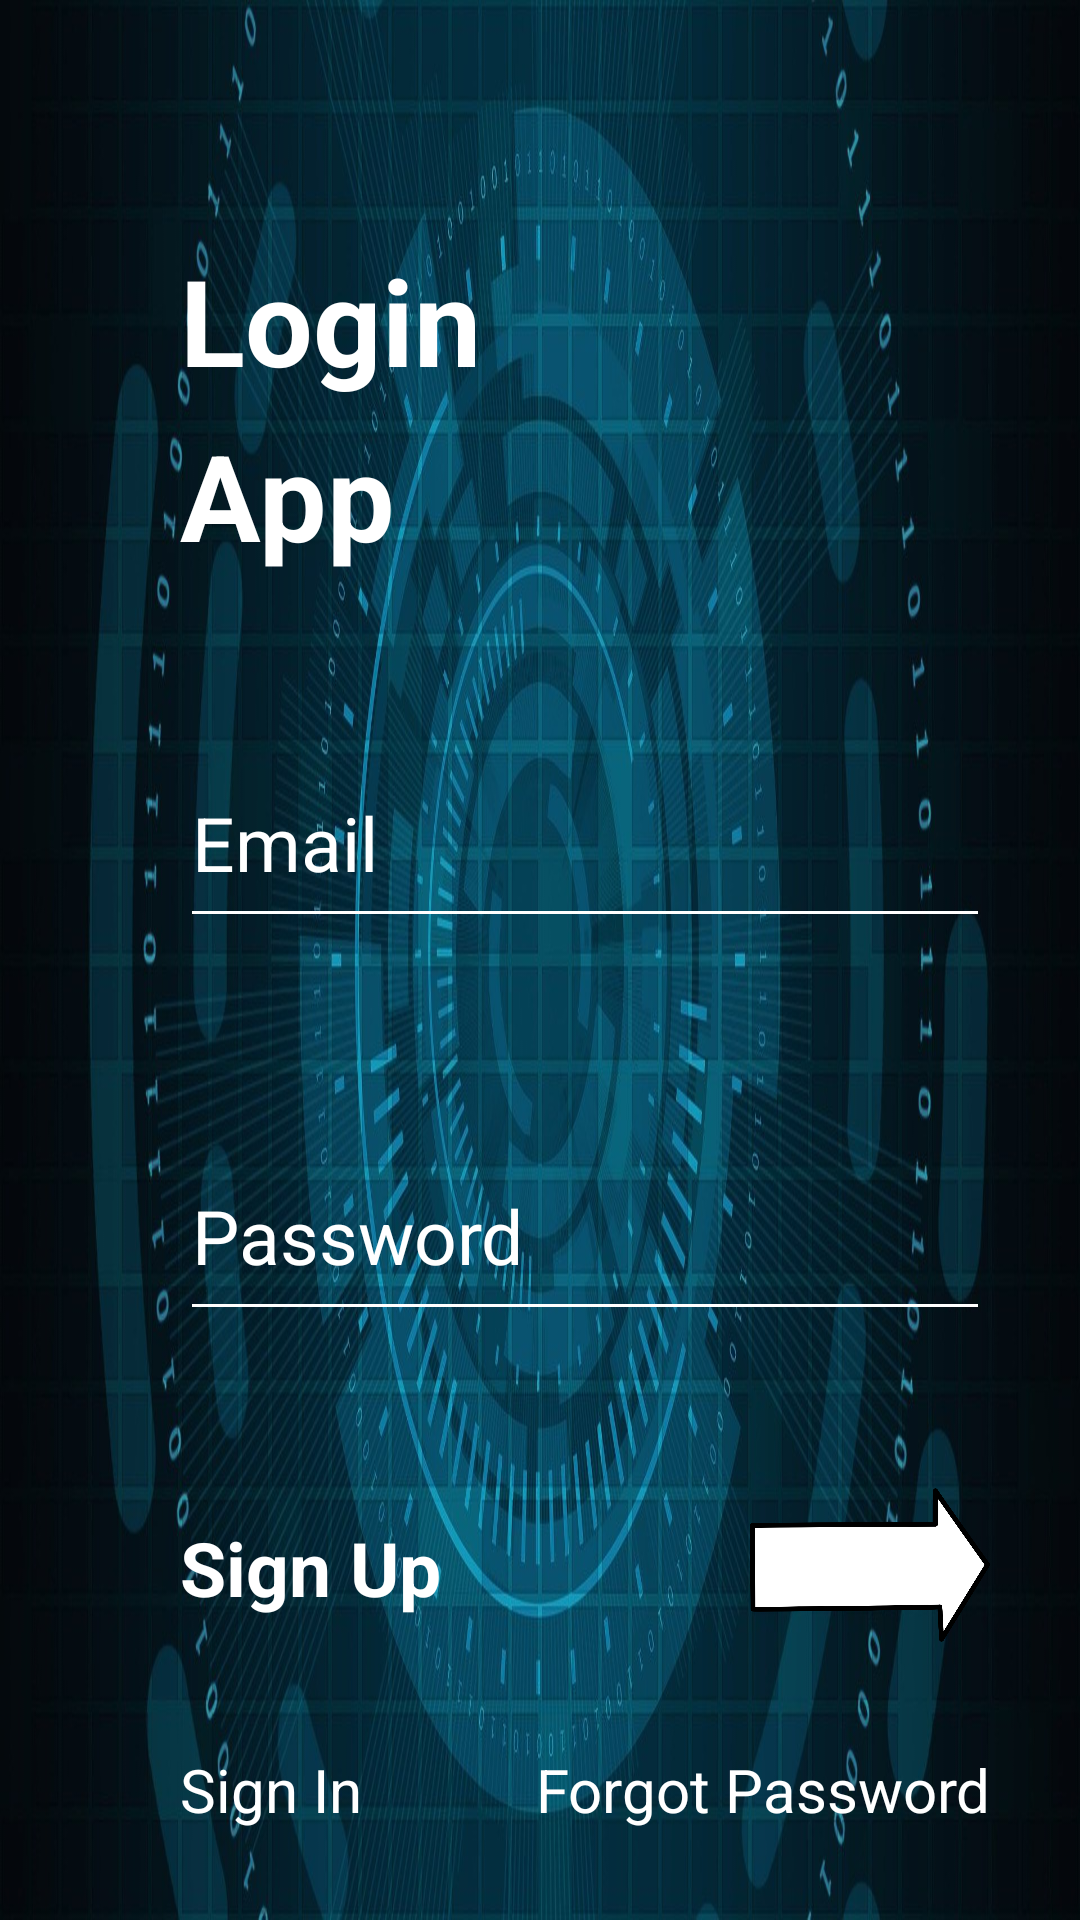

Screen size 1080 x 1920. Icon name, then its center in pixels as (x,y):
whitearrow: (870,1565)
